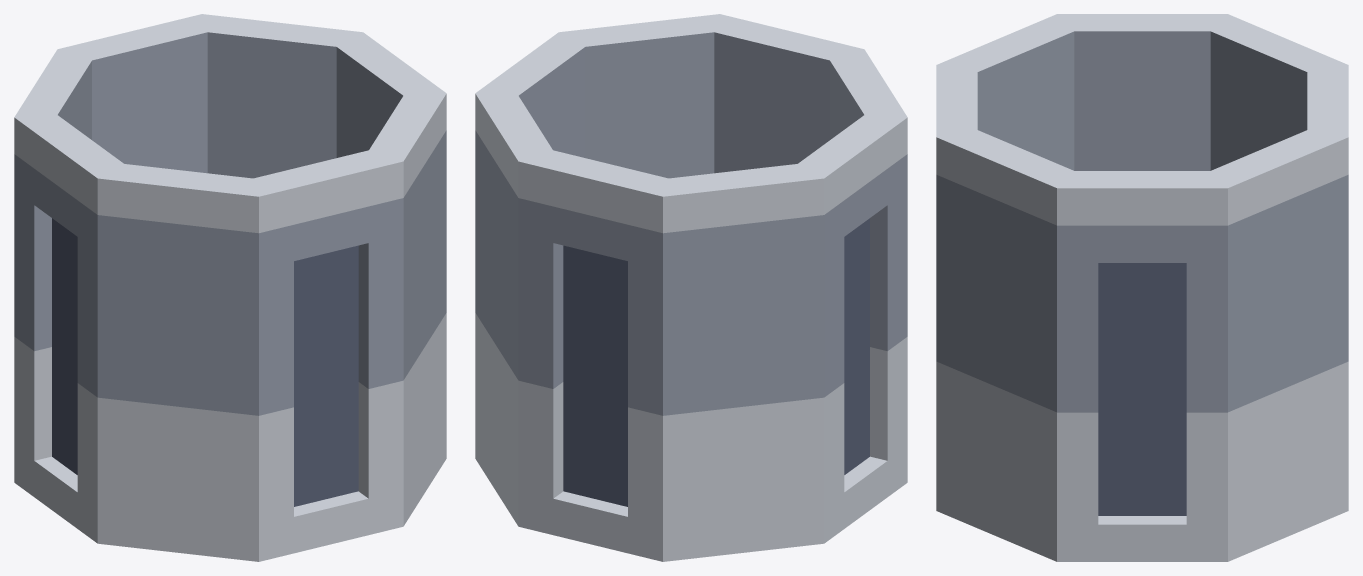
Rendered from rocket_sidesA.glb.
The picture shows the model from 3 angles, left to right: view 1: azimuth 30°, elevation 25°; view 2: azimuth 150°, elevation 25°; view 3: azimuth 270°, elevation 25°; orthographic projection. The views are drawn at different scales.
Visible parts, largest first — view 1: rocket_sidesA; view 2: rocket_sidesA; view 3: rocket_sidesA.
Part boxes in pixels (<box>): rocket_sidesA: <box>14,14,446,561</box>; rocket_sidesA: <box>475,14,907,561</box>; rocket_sidesA: <box>936,14,1348,561</box>.
Bounding box in the file's own units: 1 × 1 × 1.
